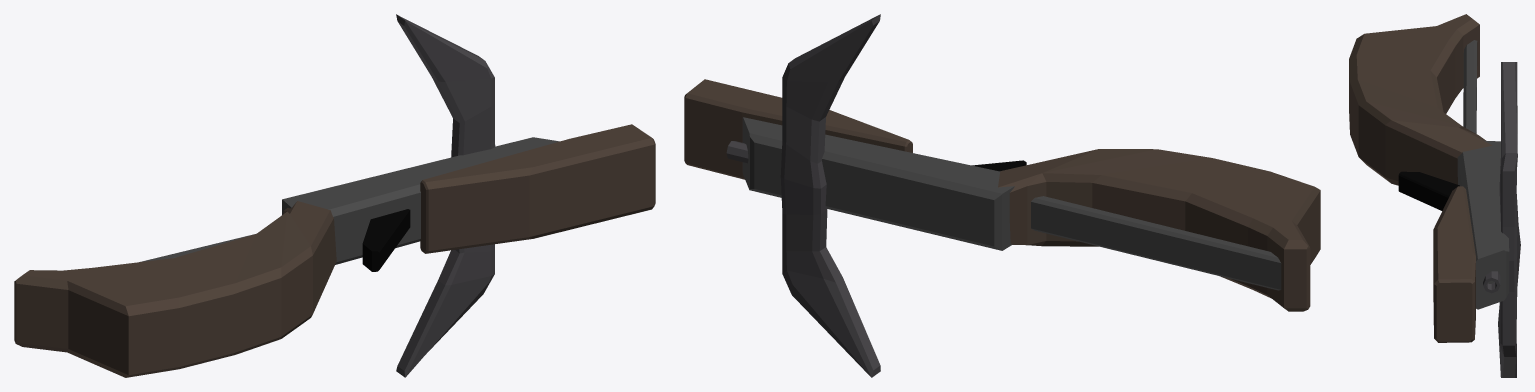
File: Crossbow.fbx
3 views of the same model, side by side, from view 1: azimuth 30°, elevation 25°; view 2: azimuth 150°, elevation 25°; view 3: azimuth 270°, elevation 25° (orthographic). The views are drawn at different scales.
Visible parts, largest first — view 1: Handle, Forearm, Bow, Body, Trigger; view 2: Handle, Body, Bow, Bar, Forearm; view 3: Handle, Forearm, Body, Bow, Trigger, Bar, Barrel.
Boxes of the visible parts, bbox=[...] form: Handle: bbox=[14, 201, 336, 377]; Forearm: bbox=[420, 124, 655, 253]; Bow: bbox=[396, 14, 495, 377]; Body: bbox=[282, 137, 559, 264]; Trigger: bbox=[362, 209, 410, 271]; Handle: bbox=[998, 149, 1320, 311]; Body: bbox=[742, 117, 1014, 250]; Bow: bbox=[780, 14, 880, 377]; Bar: bbox=[1031, 196, 1281, 290]; Forearm: bbox=[684, 79, 912, 179]; Handle: bbox=[1349, 14, 1492, 185]; Forearm: bbox=[1433, 186, 1475, 342]; Body: bbox=[1457, 140, 1509, 309]; Bow: bbox=[1498, 62, 1520, 377]; Trigger: bbox=[1398, 171, 1459, 210]; Bar: bbox=[1463, 40, 1477, 133]; Barrel: bbox=[1483, 271, 1500, 293].
Bounding box in the file's own units: 1069 × 586 × 289.
